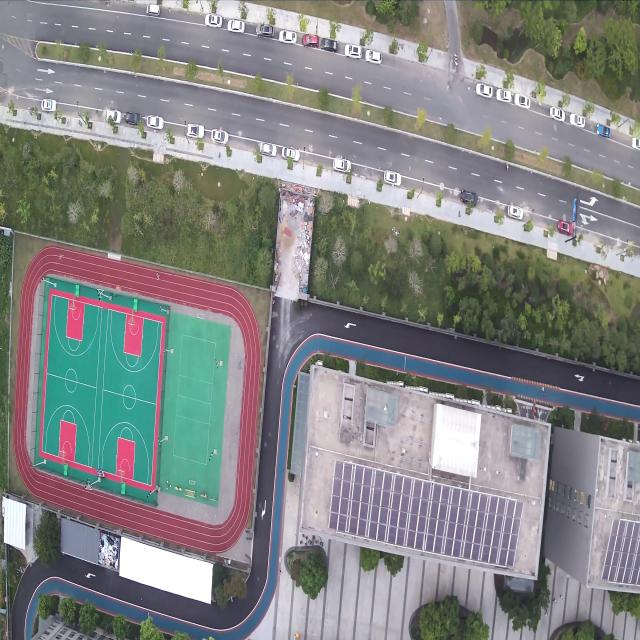UAV: (58, 253, 64, 261)
